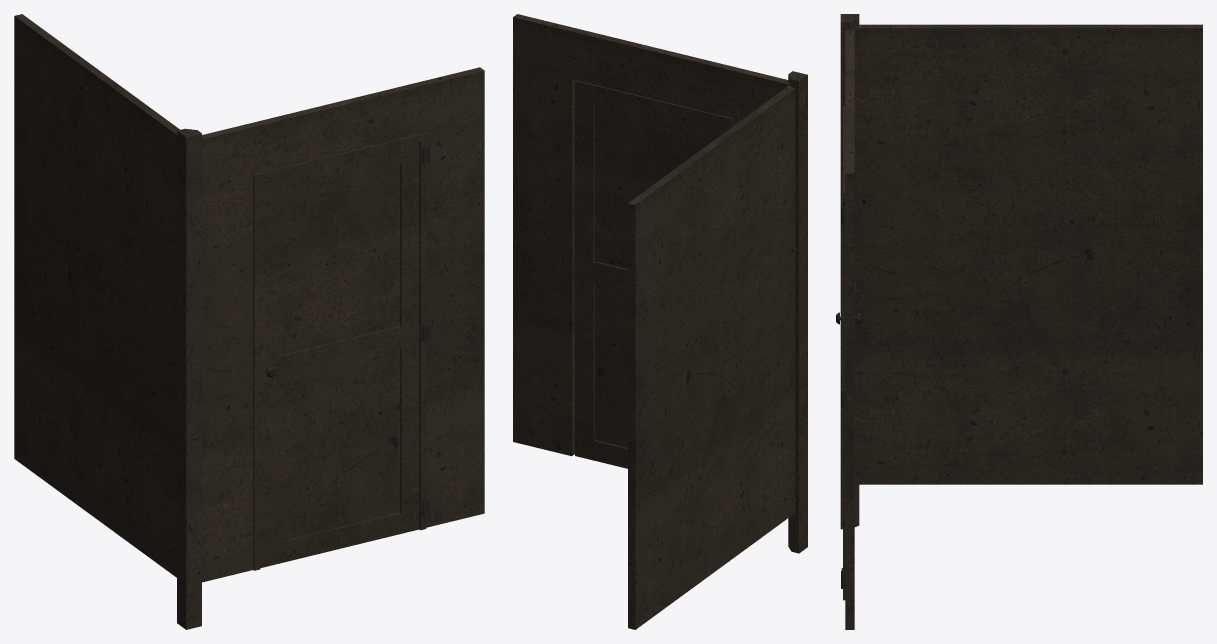
File: toilet_cabin_mp_1.glb
3 views of the same model, side by side, from view 1: azimuth 30°, elevation 25°; view 2: azimuth 150°, elevation 25°; view 3: azimuth 270°, elevation 25° (orthographic). The views are drawn at different scales.
Parts seen in each view (by area): view 1: toilet_cabin_mp_1, toilet_cabin_mp_1_door; view 2: toilet_cabin_mp_1, toilet_cabin_mp_1_door; view 3: toilet_cabin_mp_1, toilet_cabin_mp_1_door.
Boxes of the visible parts, x1,y1,x2,y2 form: toilet_cabin_mp_1: [14, 14, 484, 629]; toilet_cabin_mp_1_door: [253, 132, 430, 570]; toilet_cabin_mp_1: [513, 14, 807, 629]; toilet_cabin_mp_1_door: [575, 80, 732, 468]; toilet_cabin_mp_1: [840, 14, 1202, 629]; toilet_cabin_mp_1_door: [836, 106, 861, 600].
Bounding box in the file's own units: 1.52 × 2.38 × 1.56.
3 materials, 3 textured.
